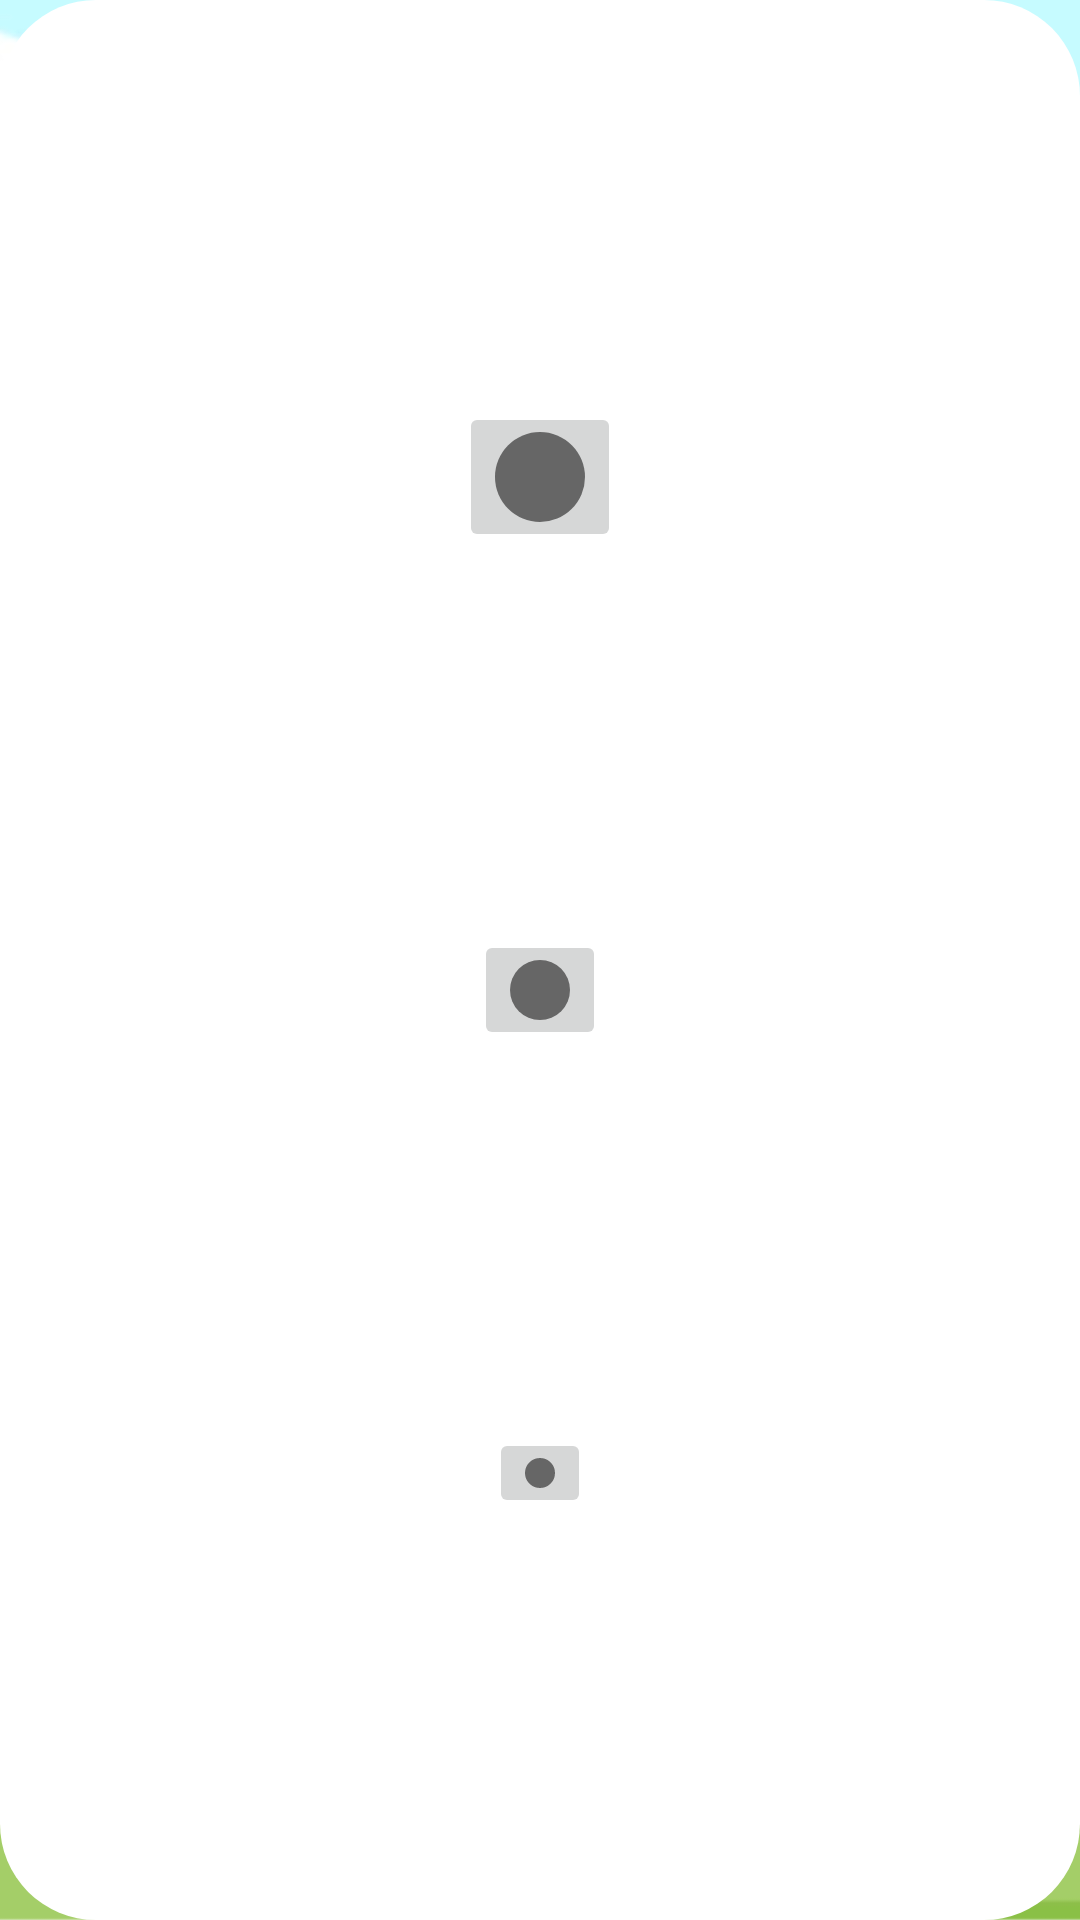

Named icons in this screenshot (1080x1920) and their bounding boxes, region(x1, y1, x2, y2):
Large Brush: region(471, 420, 609, 534)
Medium Brush: region(486, 948, 594, 1032)
Small Brush: region(501, 1446, 579, 1500)
